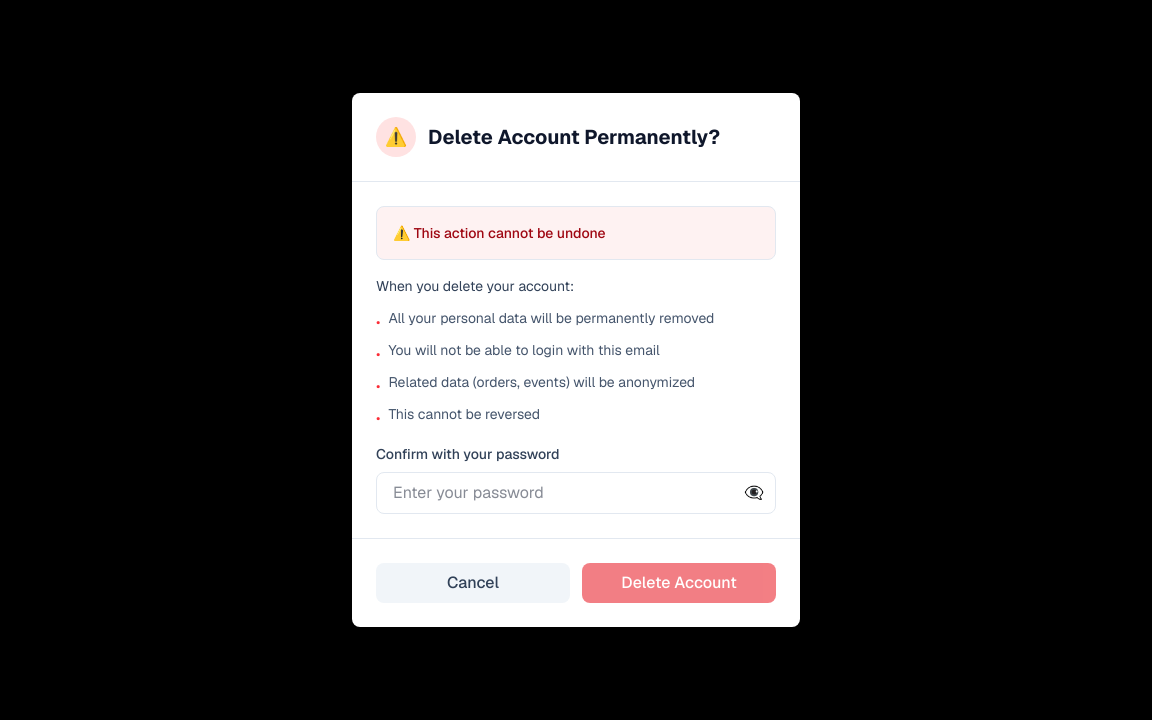
Test: DeleteAccountModal › should enable delete button when password is entered
In the password field with placeholder "Enter your password": point(576, 493) [376, 472, 776, 514], type "password123"
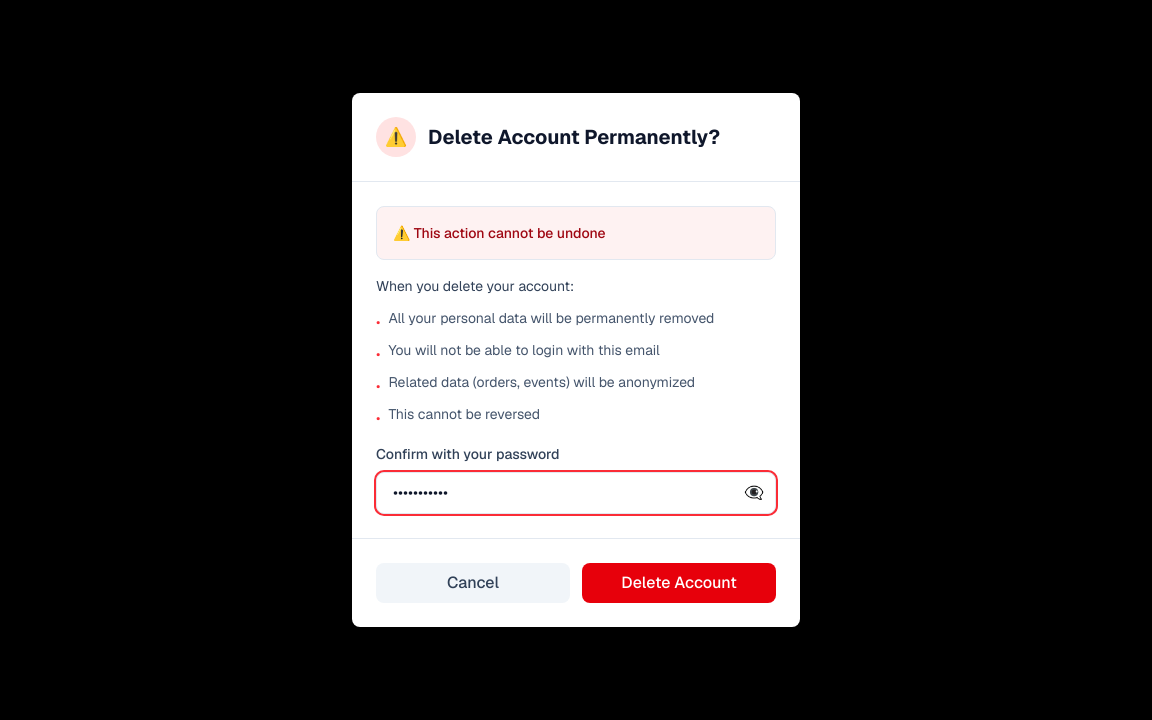
Now the button "Delete Account" is enabled, box [582, 563, 776, 603]
